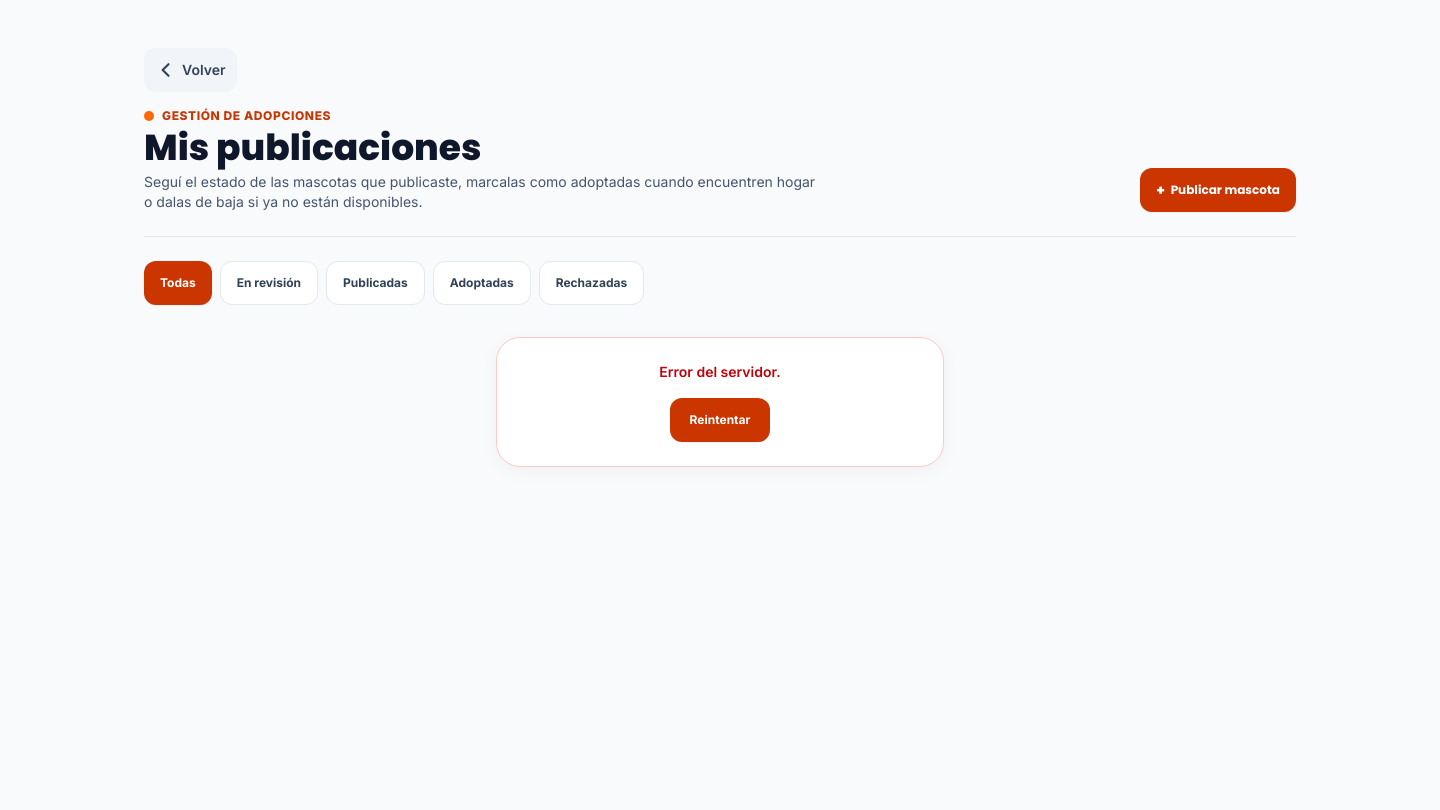
Test: MyPetsView › muestra error de la API si falla la carga y permite reintentar
Check: the message shows "Error del servidor.", box [659,363,781,380]
Click the button "Reintentar" at (720, 420), box [670,398,770,442]
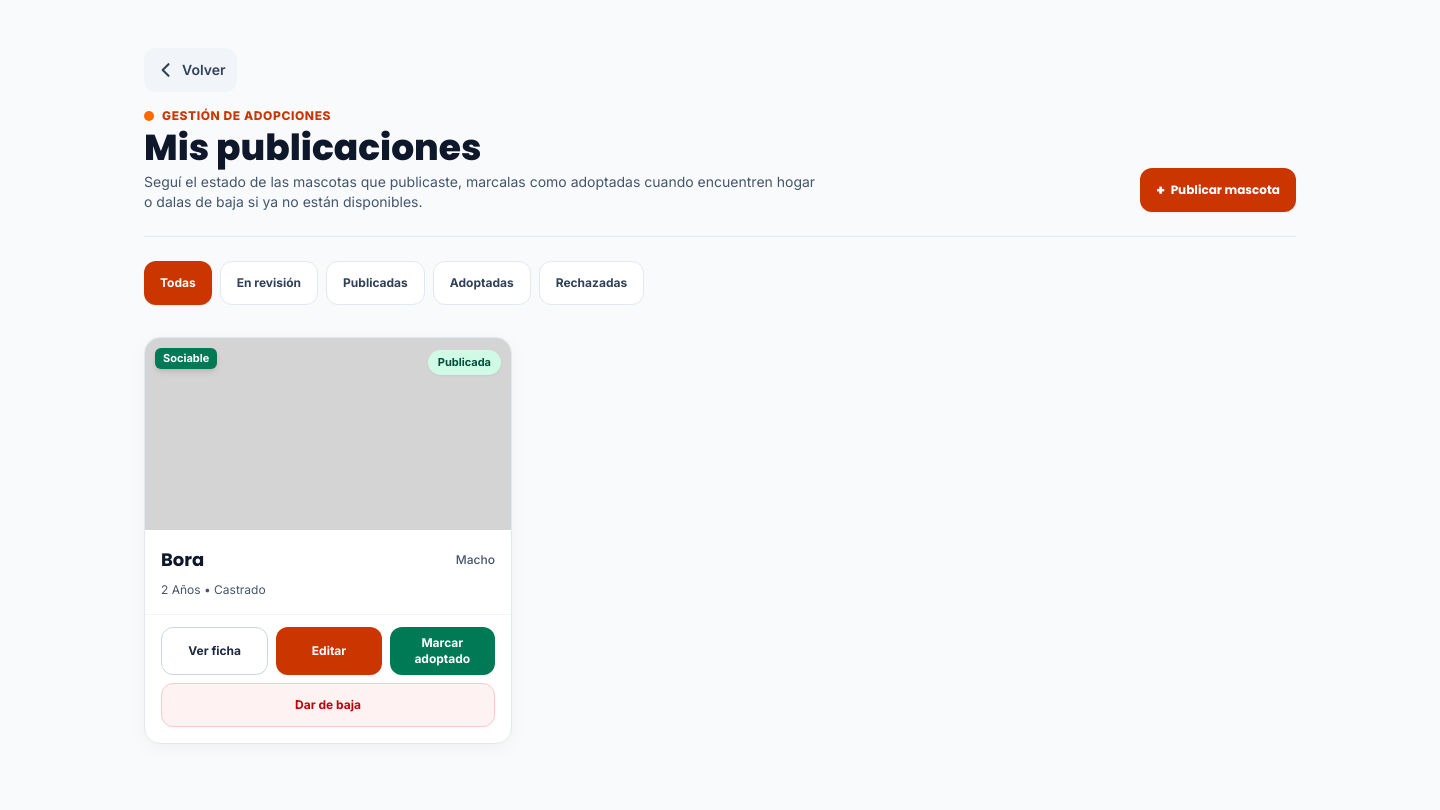
Check: the heading "Bora" is shown, box [161,546,204,574]
